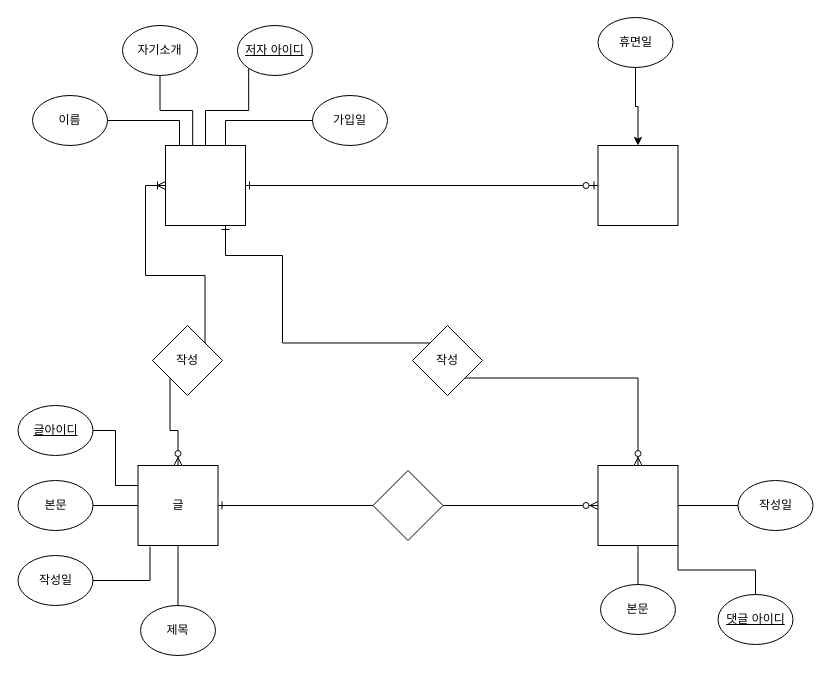
This 830x673 diagram has some shape labels left out. Each missing label, with the box of its shape:
댓글: (597, 464, 678, 546)
소속: (372, 470, 443, 540)
저자: (164, 144, 246, 226)
휴면자: (597, 144, 678, 226)
